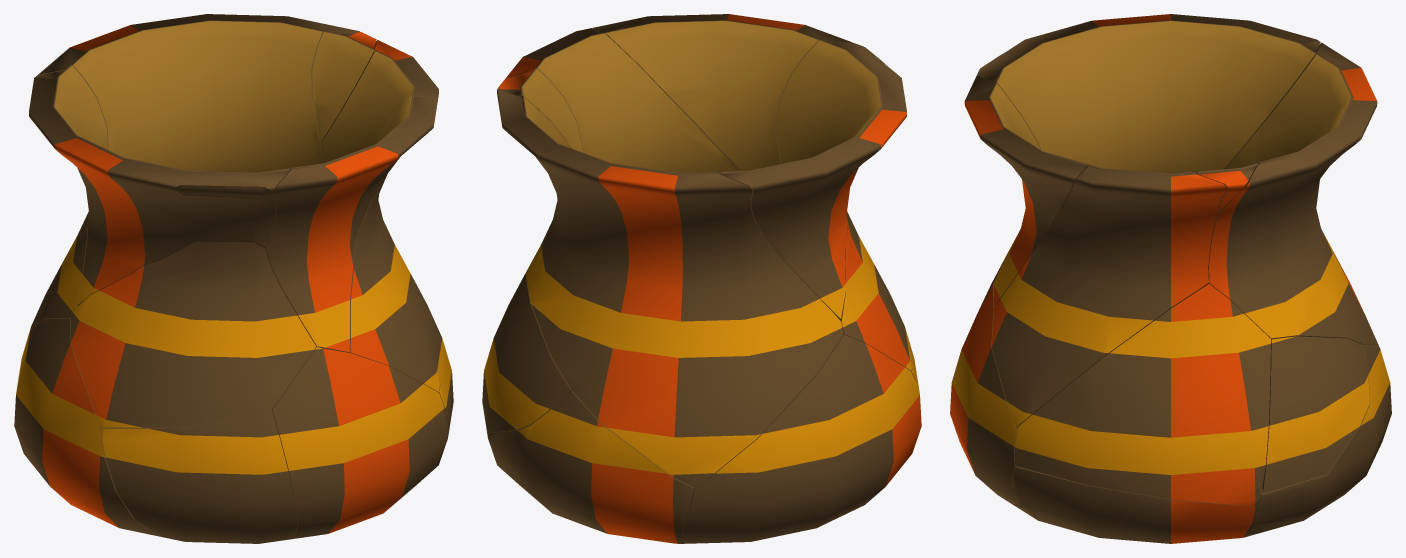
The model's file is BrokenPot.fbx.
3 views of the same model, side by side, from view 1: azimuth 30°, elevation 25°; view 2: azimuth 150°, elevation 25°; view 3: azimuth 270°, elevation 25° (orthographic).
Parts seen in each view (by area): view 1: BézierCurve_cell.003, BézierCurve_cell.007, BézierCurve_cell.012, BézierCurve_cell.005, BézierCurve_cell.010, BézierCurve_cell.004, BézierCurve_cell.013, BézierCurve_cell.009, BézierCurve_cell.015, BézierCurve_cell.008, BézierCurve_cell.016; view 2: BézierCurve_cell.003, BézierCurve_cell.009, BézierCurve_cell.005, BézierCurve_cell.004, BézierCurve_cell.014, BézierCurve_cell.013, BézierCurve_cell, BézierCurve_cell.007, BézierCurve_cell.015, BézierCurve_cell.008; view 3: BézierCurve_cell.005, BézierCurve_cell.008, BézierCurve_cell.013, BézierCurve_cell.003, BézierCurve_cell, BézierCurve_cell.011, BézierCurve_cell.004, BézierCurve_cell.012, BézierCurve_cell.014, BézierCurve_cell.015.
Boxes of the visible parts, box(x1,y1,x2,y2) form: BézierCurve_cell.003: box(30, 14, 359, 329); BézierCurve_cell.007: box(70, 242, 315, 427); BézierCurve_cell.012: box(272, 346, 446, 538); BézierCurve_cell.005: box(29, 65, 291, 306); BézierCurve_cell.010: box(101, 409, 297, 543); BézierCurve_cell.004: box(265, 93, 437, 352); BézierCurve_cell.013: box(317, 40, 439, 392); BézierCurve_cell.009: box(14, 318, 160, 536); BézierCurve_cell.015: box(312, 31, 376, 141); BézierCurve_cell.008: box(413, 278, 452, 424); BézierCurve_cell.016: box(175, 186, 269, 197); BézierCurve_cell.003: box(497, 89, 843, 487); BézierCurve_cell.009: box(678, 334, 921, 543); BézierCurve_cell.005: box(718, 40, 906, 319); BézierCurve_cell.004: box(592, 14, 852, 170); BézierCurve_cell.014: box(482, 389, 694, 543); BézierCurve_cell.013: box(505, 28, 739, 172); BézierCurve_cell: box(483, 287, 570, 432); BézierCurve_cell.007: box(839, 211, 912, 370); BézierCurve_cell.015: box(497, 68, 583, 152); BézierCurve_cell.008: box(482, 231, 547, 403); BézierCurve_cell.005: box(977, 14, 1320, 173); BézierCurve_cell.008: box(1014, 283, 1270, 506); BézierCurve_cell.013: box(991, 164, 1227, 427); BézierCurve_cell.003: box(1207, 42, 1378, 344); BézierCurve_cell: box(1262, 336, 1369, 493); BézierCurve_cell.011: box(1013, 466, 1255, 543); BézierCurve_cell.004: box(964, 75, 1088, 306); BézierCurve_cell.012: box(950, 280, 1020, 506); BézierCurve_cell.014: box(1249, 344, 1391, 534); BézierCurve_cell.015: box(1195, 162, 1258, 213).
Bounding box in the file's own units: 123 × 121 × 123.
